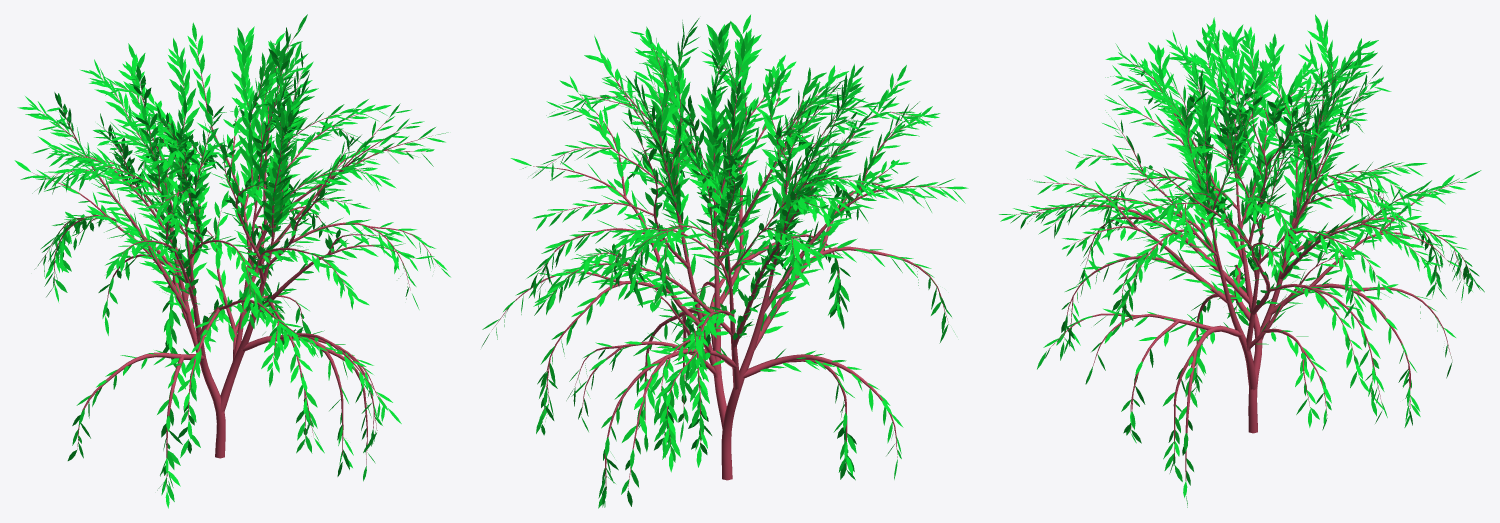
File: willow.glb
The picture shows the model from 3 angles, left to right: view 1: azimuth 30°, elevation 25°; view 2: azimuth 150°, elevation 25°; view 3: azimuth 270°, elevation 25°; orthographic projection. The views are drawn at different scales.
Parts seen in each view (by area): view 1: leaves.001, tree.001; view 2: leaves.001, tree.001; view 3: leaves.001, tree.001.
Part boxes in pixels (box(x1,y1,x2,y2)): leaves.001: box(14, 14, 450, 508); tree.001: box(32, 31, 439, 486); leaves.001: box(481, 14, 968, 508); tree.001: box(492, 35, 948, 489); leaves.001: box(999, 14, 1484, 507); tree.001: box(1014, 34, 1471, 480).
Size of the model in its own units: 7.3 by 8.49 by 8.96.
